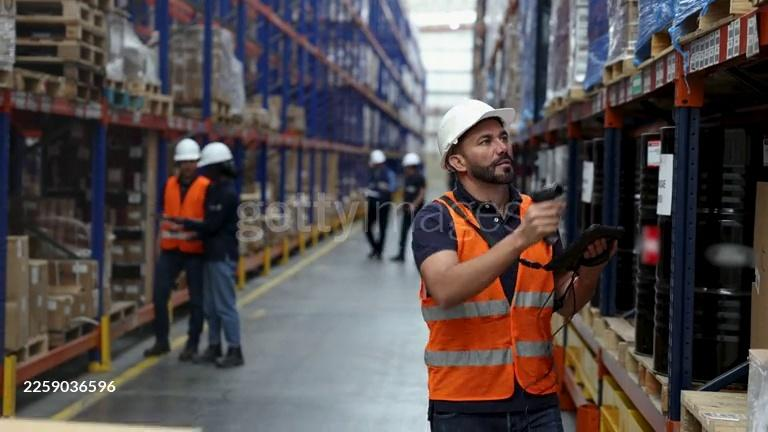helmet: (436, 98, 518, 165), (198, 142, 235, 165), (174, 138, 200, 160), (370, 150, 386, 164), (403, 153, 419, 166)
person: (413, 98, 618, 430), (175, 141, 244, 367), (145, 139, 204, 359), (359, 149, 398, 260), (392, 153, 429, 262)
